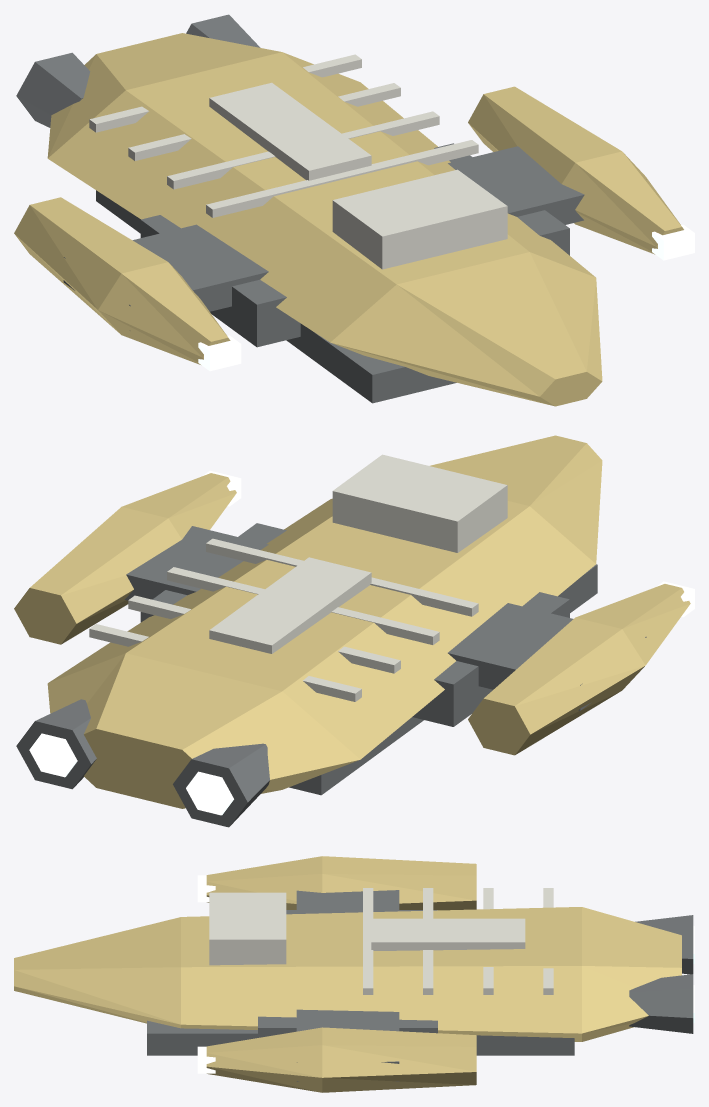
The picture shows the model from 3 angles, top to bottom: view 1: azimuth 30°, elevation 25°; view 2: azimuth 150°, elevation 25°; view 3: azimuth 270°, elevation 25°; orthographic projection. The views are drawn at different scales.
Size of the model in its own units: 6.93 by 1.51 by 9.65.
